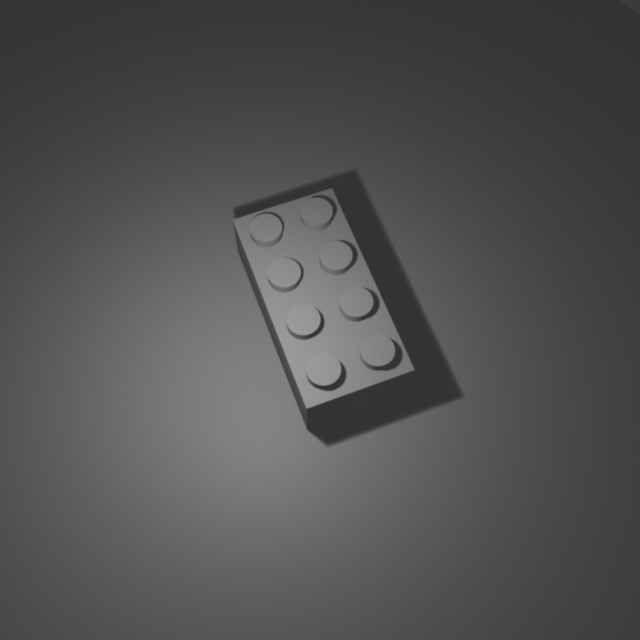lego_2x4: (232, 182, 416, 431)
